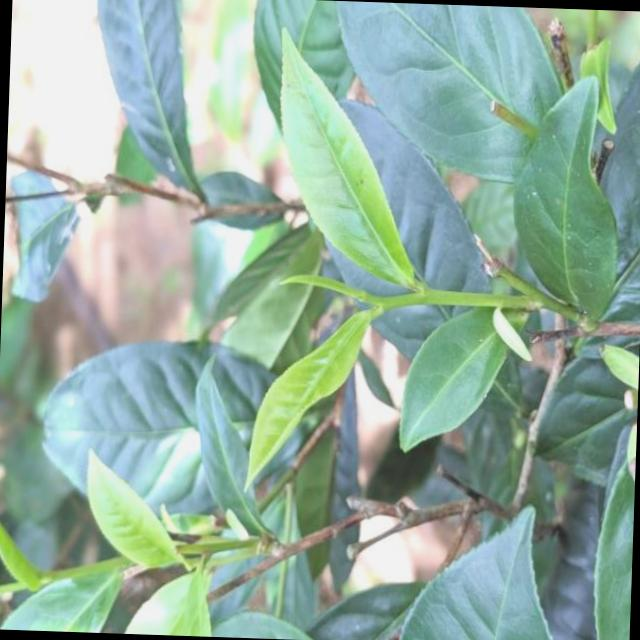Stem: (415, 289, 433, 304)
